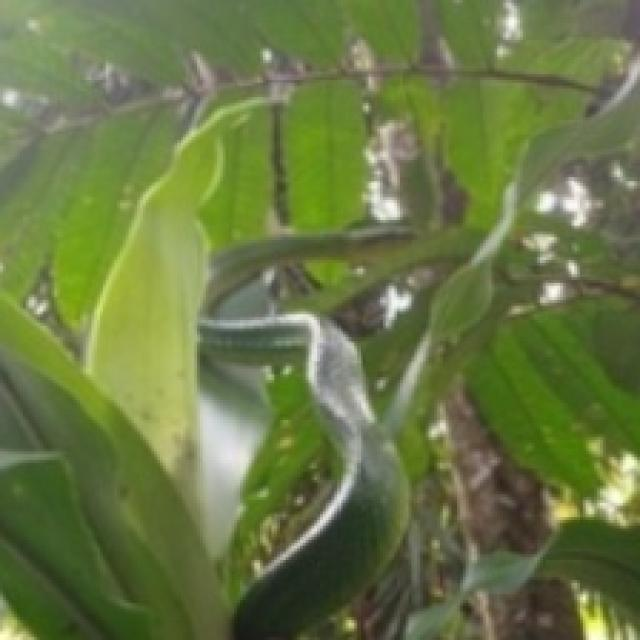red-tailed green ratsnake: (200, 311, 406, 637)
